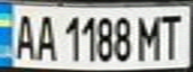1: (60, 11, 81, 62), (78, 12, 96, 62)
8: (112, 12, 136, 62), (96, 12, 115, 62)
A: (9, 9, 39, 61), (33, 10, 57, 62)
M: (136, 11, 163, 61)
T: (154, 10, 187, 61)
